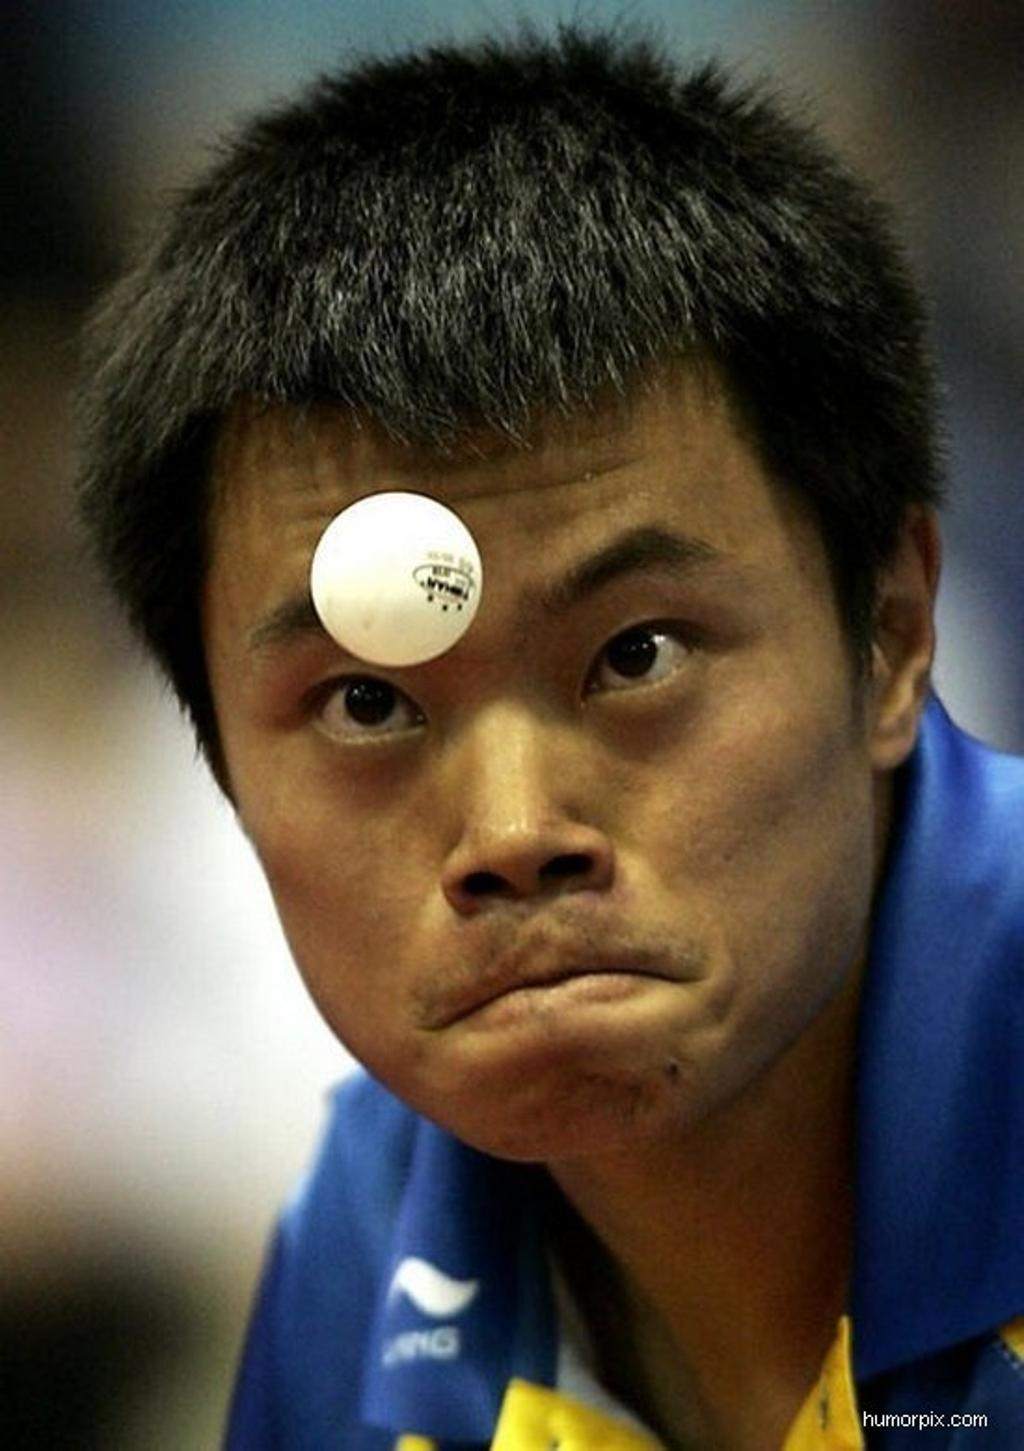face: (196, 366, 874, 1157)
